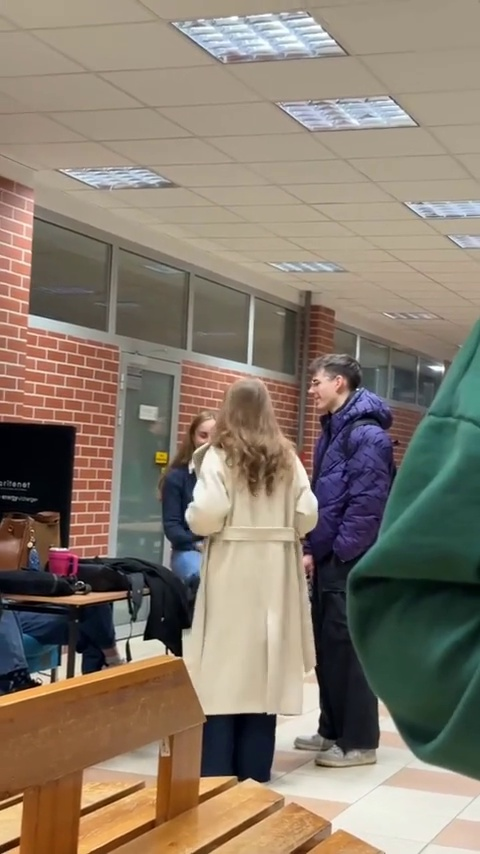no vest: (194, 371, 307, 727), (309, 352, 395, 727)
